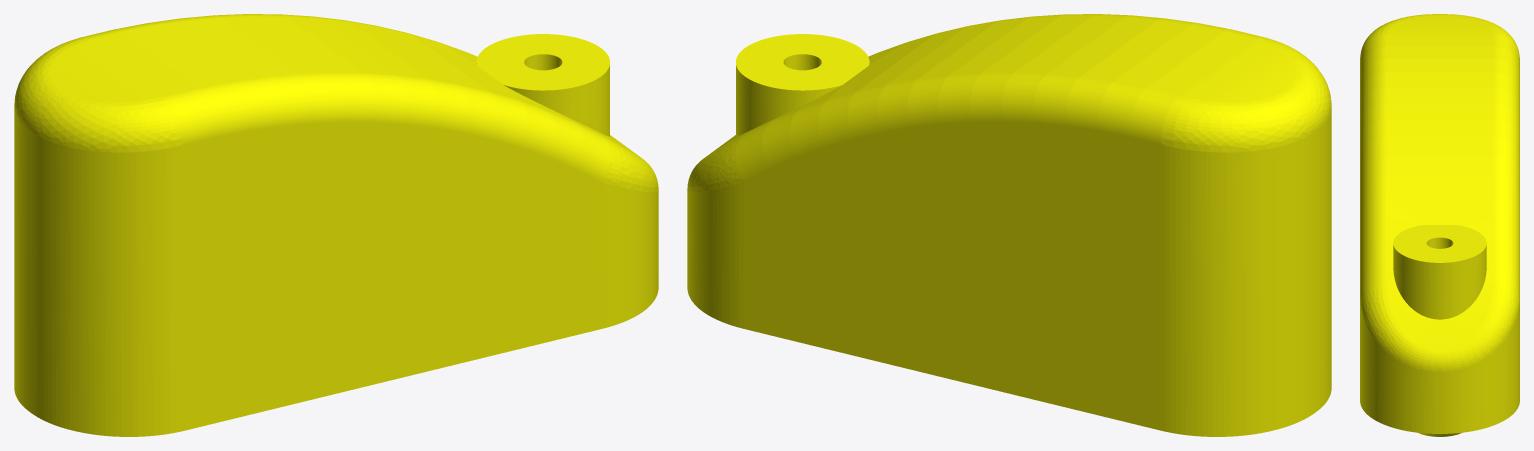
3 renders of one model, left to right at view 1: azimuth 30°, elevation 25°; view 2: azimuth 150°, elevation 25°; view 3: azimuth 270°, elevation 25°, orthographic. The views are drawn at different scales.
Visible parts, largest first — view 1: node0; view 2: node0; view 3: node0.
Boxes of the visible parts, <box> form: node0: <box>14,14,658,436</box>; node0: <box>687,14,1331,436</box>; node0: <box>1360,14,1519,436</box>.
Bounding box in the file's own units: 0.37 × 0.12 × 0.2052.
